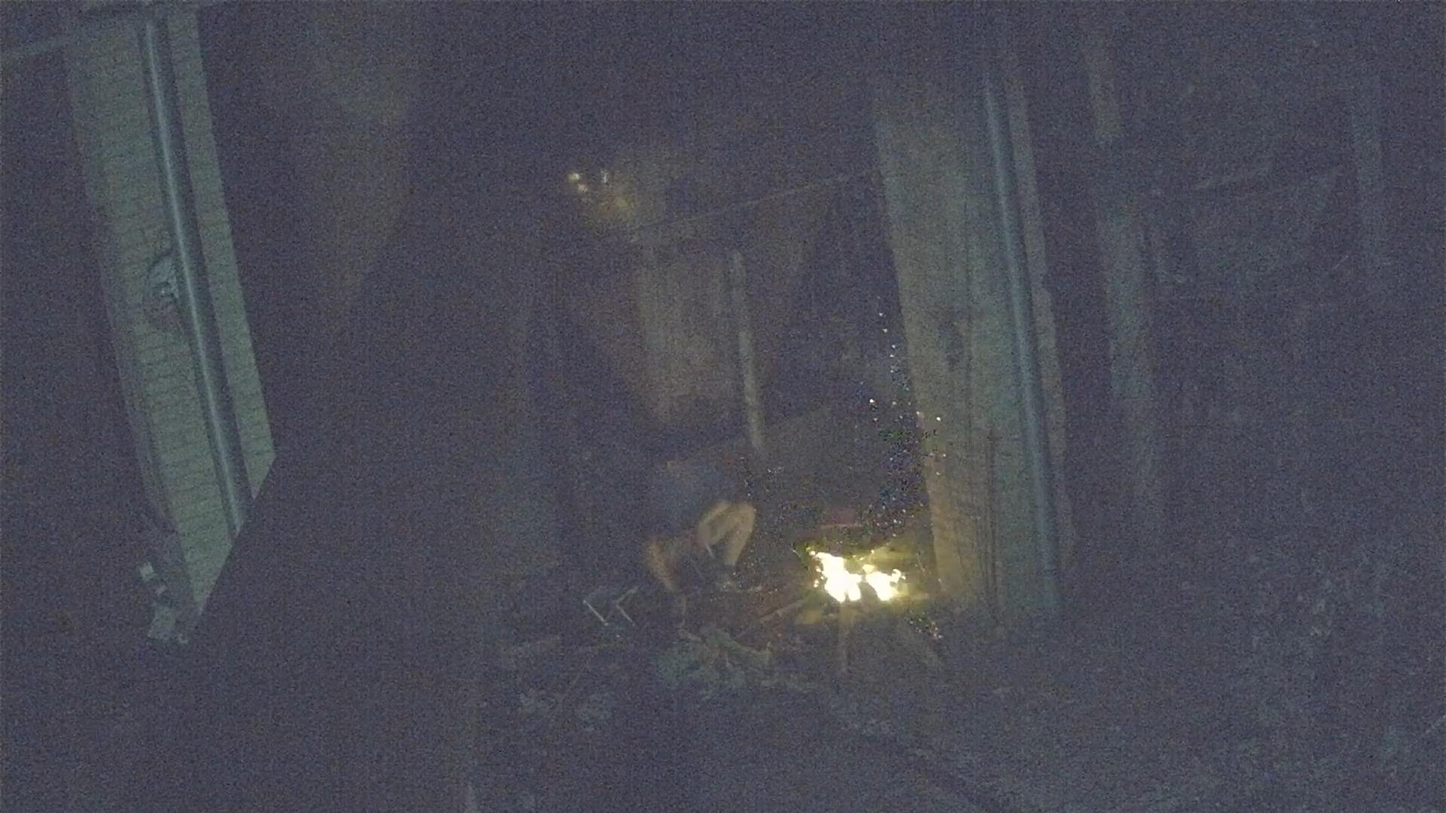fire: (813, 552, 904, 603)
